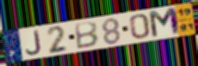0: (128, 14, 152, 41)
2: (45, 25, 69, 55)
8: (101, 17, 122, 46)
B: (74, 20, 100, 50)
J: (25, 29, 43, 56)
M: (147, 6, 183, 40)
